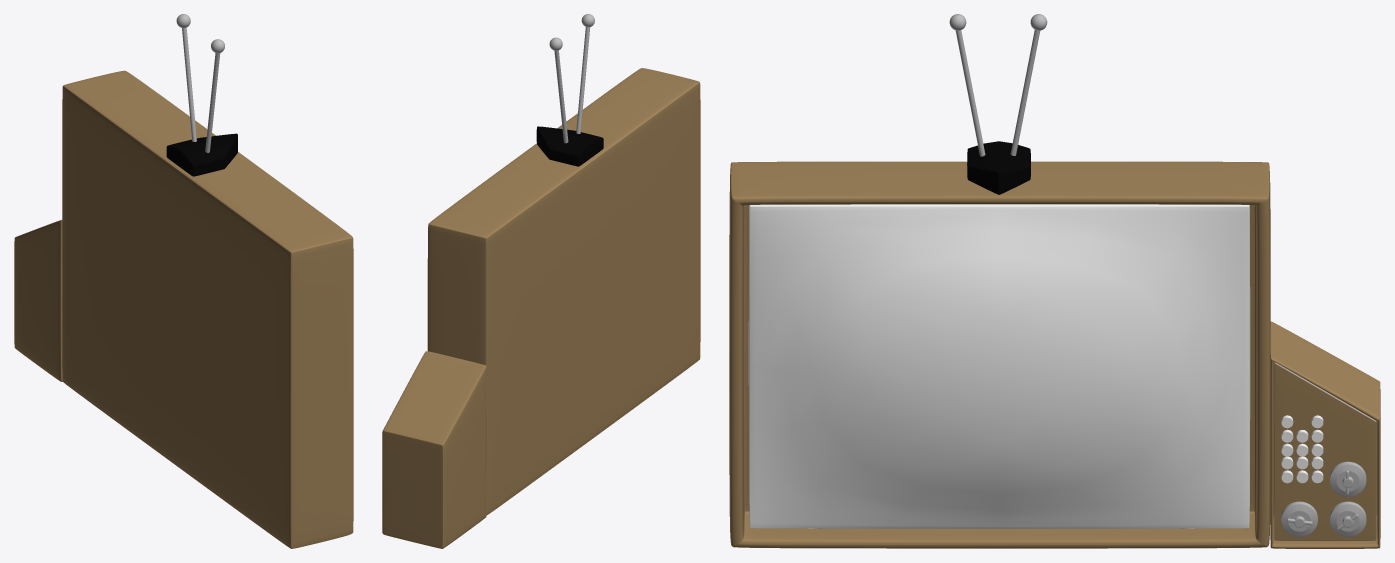
The model's file is TV_Salon.fbx.
3 views of the same model, side by side, from view 1: azimuth 30°, elevation 25°; view 2: azimuth 150°, elevation 25°; view 3: azimuth 270°, elevation 25° (orthographic). The views are drawn at different scales.
Parts seen in each view (by area): view 1: Marco_TV, Marco_Mando, Base_Antenas, Antena_1, Antena_2; view 2: Marco_TV, Marco_Mando, Base_Antenas, Antena_2, Antena_1; view 3: Pantalla_TV, Marco_TV, Plano_Mando, Marco_Mando, Base_Antenas, Rueda_3, Rueda_1, Rueda_2, Antena_2, Antena_1.
Part boxes in pixels (box(x1,y1,x2,y2)): Marco_TV: box(62, 70, 353, 548); Marco_Mando: box(14, 220, 62, 381); Base_Antenas: box(166, 133, 237, 176); Antena_1: box(182, 27, 196, 141); Antena_2: box(205, 53, 220, 152); Marco_TV: box(427, 68, 700, 515); Marco_Mando: box(382, 351, 486, 548); Base_Antenas: box(536, 126, 603, 166); Antena_2: box(576, 27, 590, 133); Antena_1: box(554, 50, 568, 143); Pantalla_TV: box(748, 204, 1250, 528); Marco_TV: box(729, 161, 1270, 548); Plano_Mando: box(1274, 362, 1376, 540); Marco_Mando: box(1270, 321, 1380, 548); Base_Antenas: box(967, 141, 1030, 194); Rueda_3: box(1329, 461, 1366, 497); Rueda_1: box(1281, 501, 1317, 536); Rueda_2: box(1329, 501, 1366, 536); Antena_2: box(955, 30, 985, 156); Antena_1: box(1010, 30, 1040, 155).
Size of the model in its own units: 1.19 by 5.79 by 6.68.
